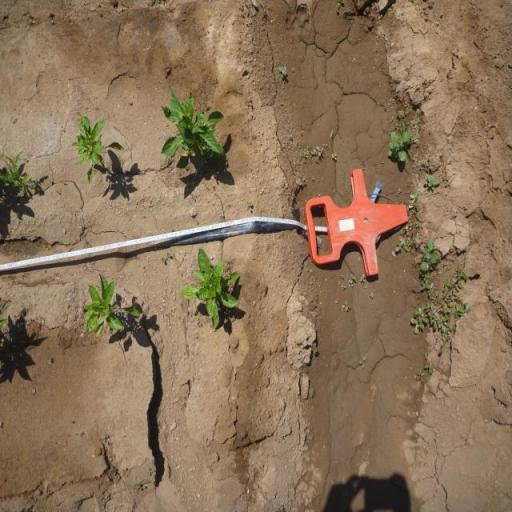plant: (157, 82, 231, 175), (178, 246, 242, 331), (79, 271, 142, 337), (74, 112, 130, 186), (0, 148, 36, 198)
weed: (410, 268, 470, 354), (407, 189, 421, 254), (386, 130, 412, 164), (420, 238, 439, 270), (302, 145, 323, 164), (423, 172, 441, 190), (334, 0, 352, 17), (394, 238, 408, 254), (276, 64, 288, 80), (396, 108, 412, 118), (347, 274, 358, 288), (425, 362, 435, 376), (340, 300, 351, 312), (415, 368, 424, 382), (161, 252, 171, 264), (359, 356, 367, 370), (387, 98, 395, 109), (246, 200, 253, 212), (396, 187, 402, 198), (311, 345, 318, 354), (341, 282, 347, 292), (360, 274, 366, 284), (331, 152, 338, 160), (383, 104, 388, 114), (415, 116, 421, 123), (369, 292, 375, 299), (394, 123, 400, 129), (48, 179, 54, 185), (322, 143, 328, 148), (48, 356, 52, 363), (340, 274, 344, 280), (338, 280, 342, 286), (335, 298, 339, 304), (357, 256, 361, 262), (364, 284, 367, 290), (378, 102, 380, 107)
